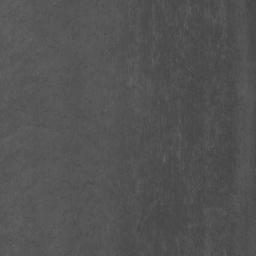Silk spot: (108, 0, 247, 256)
